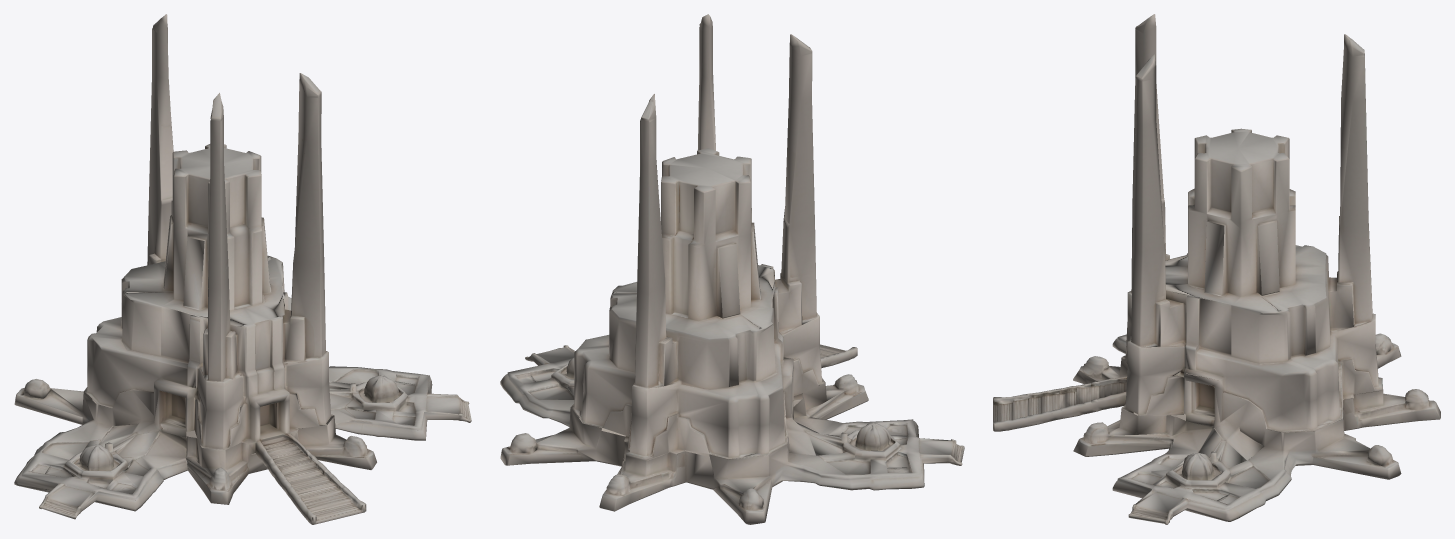
The model's file is FIXED_PALACE.obj.
3 renders of one model, left to right at view 1: azimuth 30°, elevation 25°; view 2: azimuth 150°, elevation 25°; view 3: azimuth 270°, elevation 25°, orthographic.
Parts seen in each view (by area): view 1: input; view 2: input; view 3: input.
Part boxes in pixels (box(x1,y1,x2,y2)): input: box(14, 14, 471, 524); input: box(500, 14, 964, 524); input: box(993, 14, 1440, 524).
Size of the model in its own units: 150 by 126 by 133.
1 material, 1 textured.
